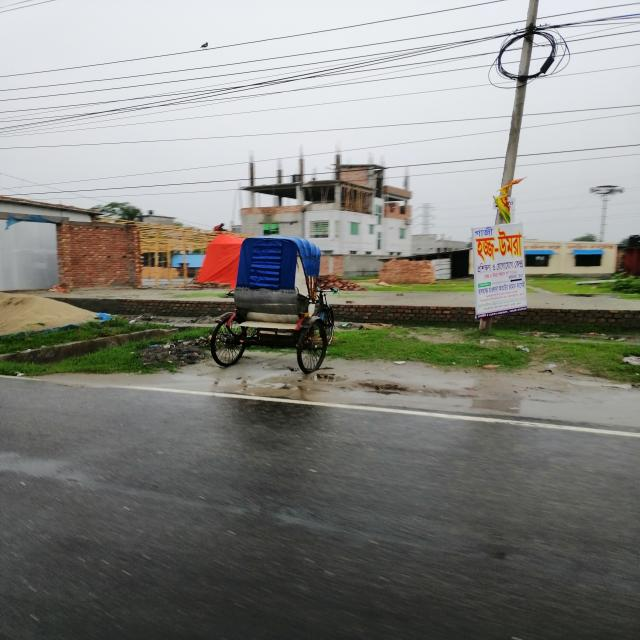Rickshaw: (213, 230, 339, 378)
